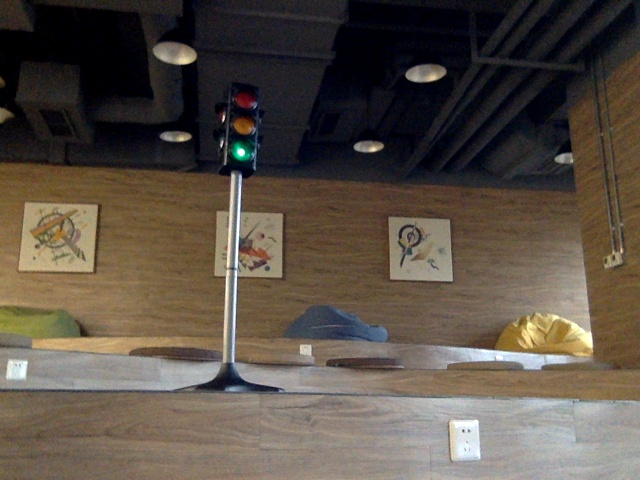green: (227, 88, 258, 168)
